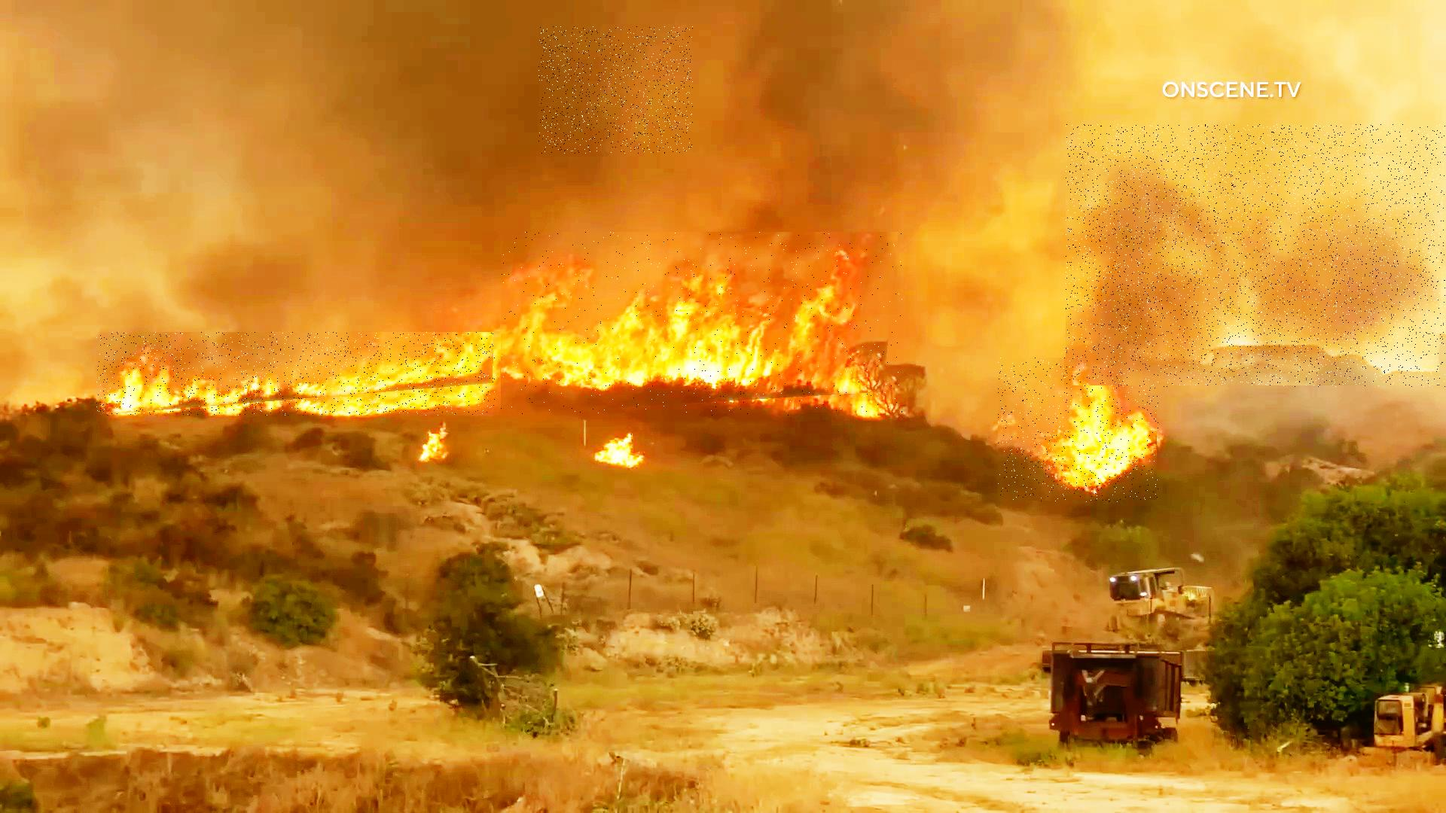fire: (501, 232, 903, 416), (96, 332, 495, 416), (998, 358, 1159, 503)
smoke: (1066, 125, 1446, 387), (539, 27, 693, 154)
